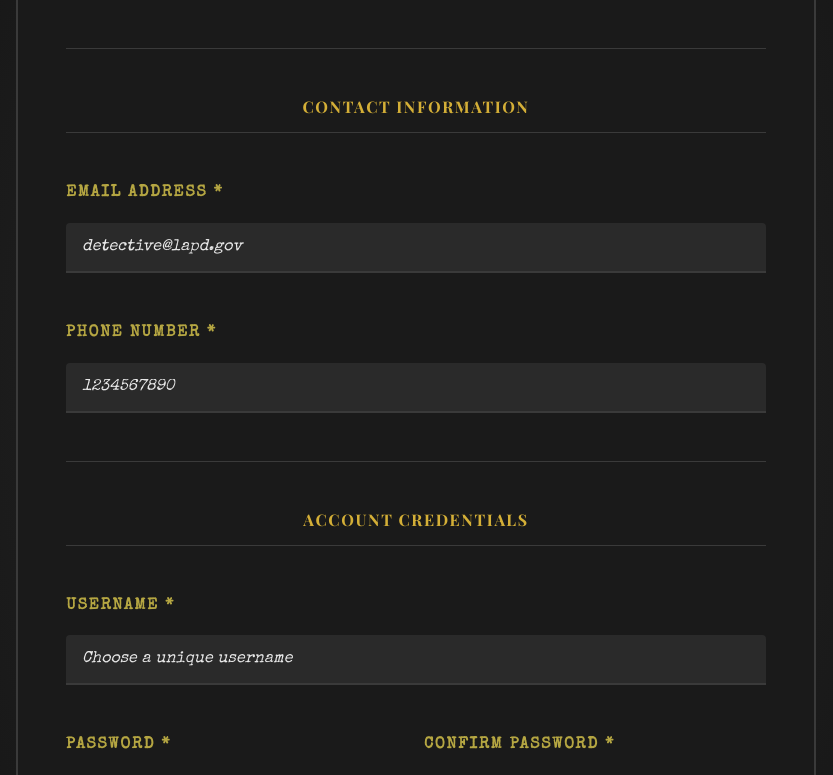
Register Component › validates phone number format
This screenshot has width=833, height=775.
(page scrolled)
Type "123" into the field labelled "Phone Number *".
click(416, 388); type("123")  # box [66,362,766,412]
(page scrolled)
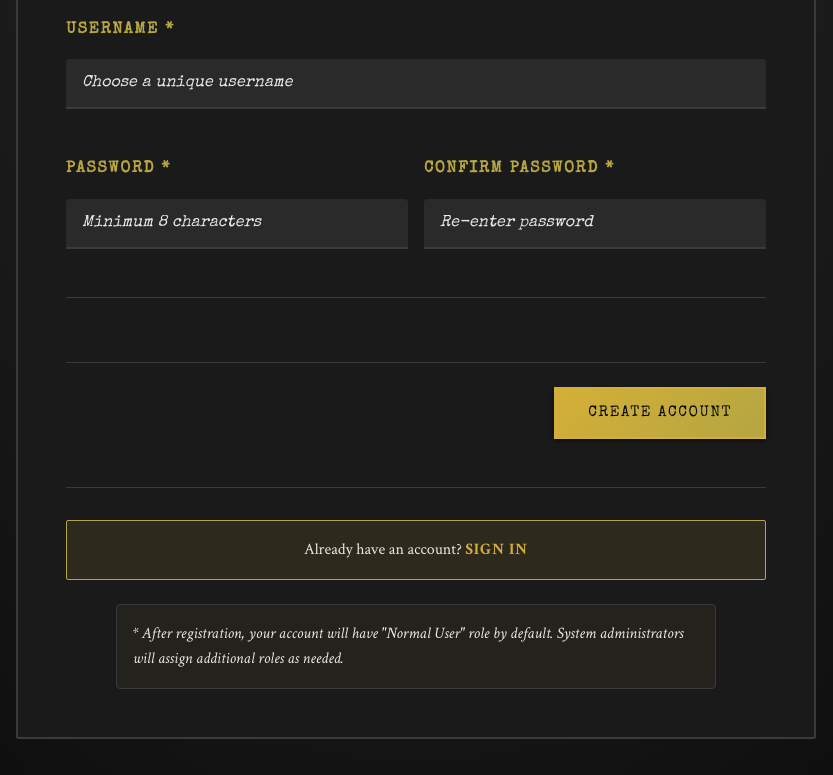
Click the button "Create Account".
click(660, 413)  # box [554,387,766,439]
(page scrolled)
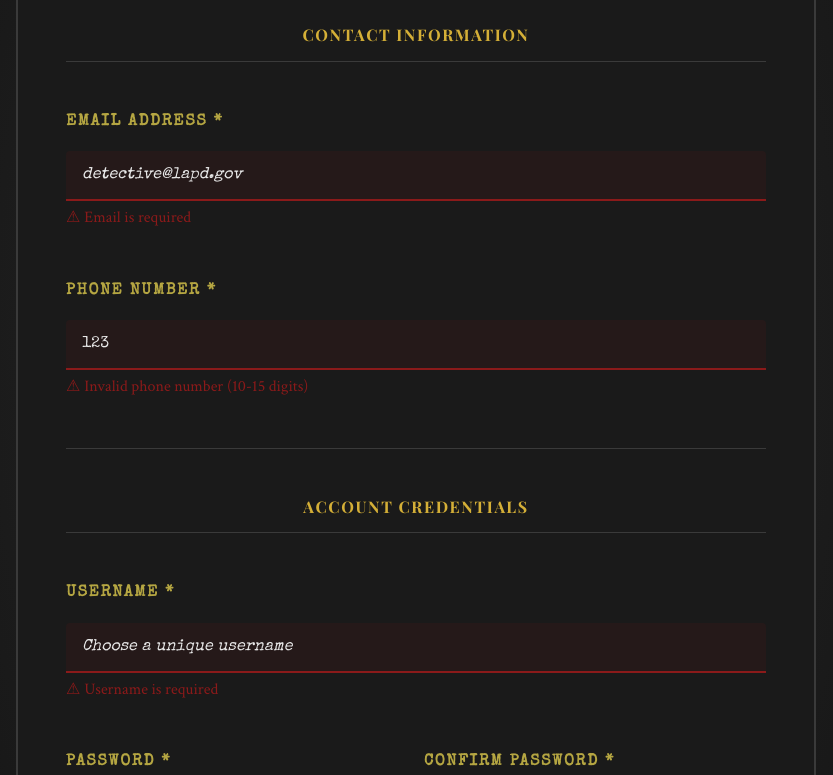
Expected: the text "Invalid phone number (10-15 digits)" is shown, [84,376,308,397]
